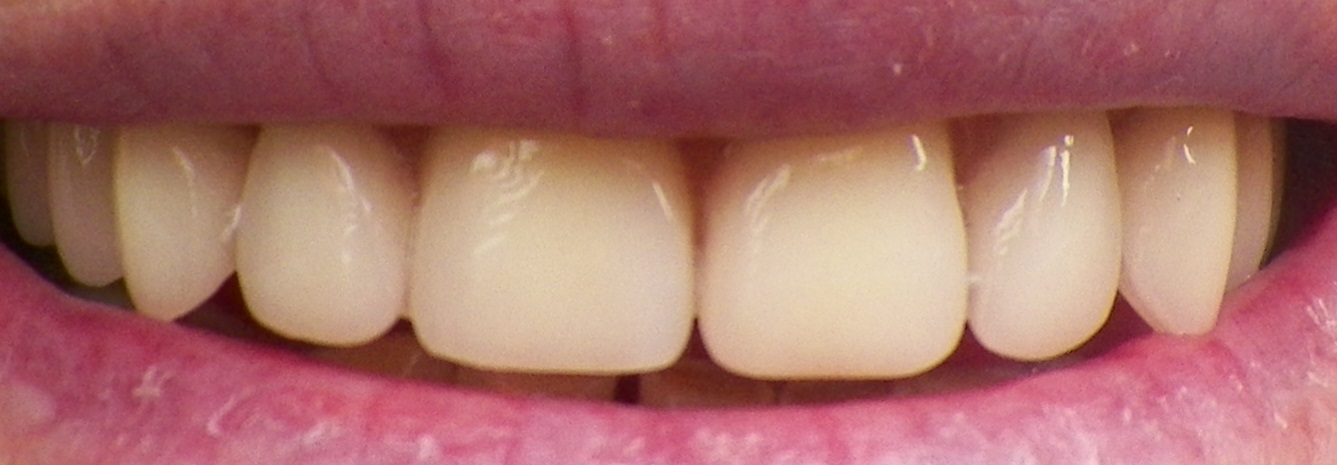boca: (3, 111, 1304, 413)
